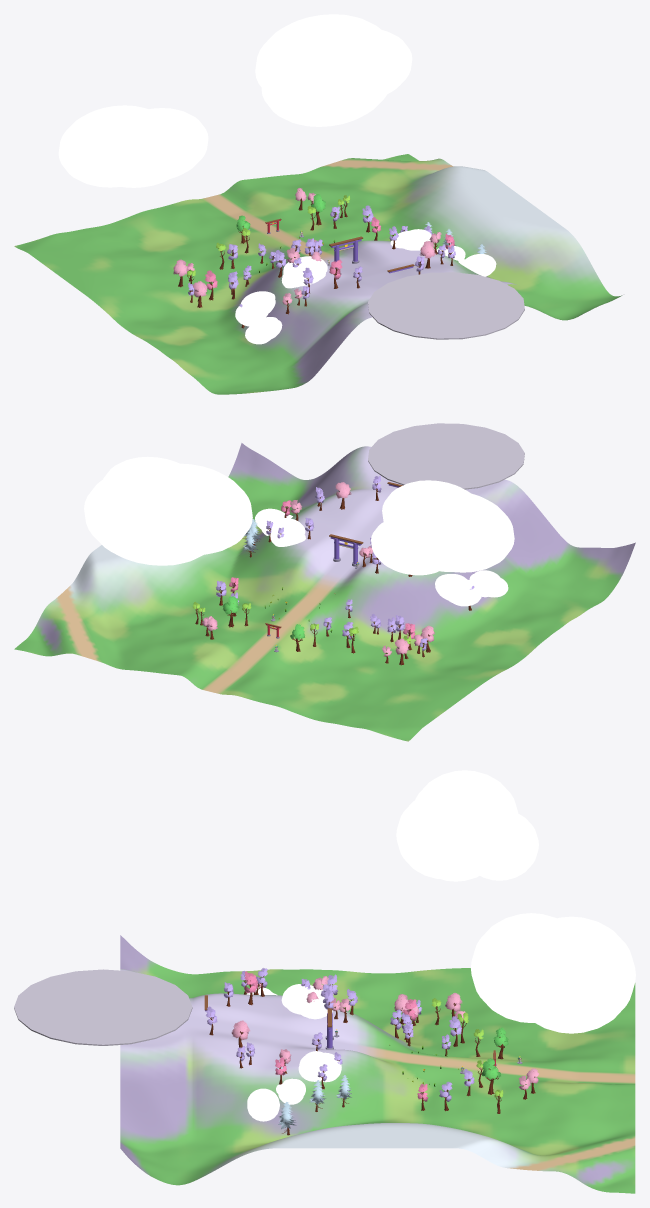
The model's file is act3.glb.
The picture shows the model from 3 angles, top to bottom: view 1: azimuth 30°, elevation 25°; view 2: azimuth 150°, elevation 25°; view 3: azimuth 270°, elevation 25°; orthographic projection. The views are drawn at different scales.
Visible parts, largest first — view 1: Ground, Cloud (×7), Throne Dais; view 2: Ground, Cloud (×5), Throne Dais; view 3: Ground, Cloud (×6), Throne Dais.
Boxes of the visible parts, x1,y1,x2,y2 form: Ground: [14, 154, 622, 394]; Cloud (×7): [58, 14, 496, 344]; Throne Dais: [368, 272, 524, 339]; Ground: [14, 443, 635, 741]; Cloud (×5): [84, 456, 514, 606]; Throne Dais: [368, 423, 524, 489]; Ground: [120, 935, 635, 1193]; Cloud (×6): [247, 770, 635, 1121]; Throne Dais: [14, 969, 192, 1045].
Bounding box in the file's own units: 160 × 69.2 × 181.
21 materials, 10 textured.
